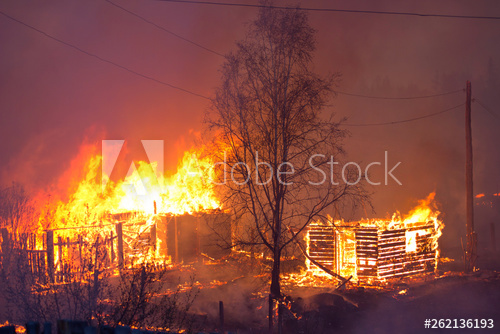fire: (312, 215, 442, 280), (58, 164, 219, 216), (53, 215, 166, 269)
smoke: (331, 28, 466, 176), (59, 17, 221, 139), (1, 7, 55, 209)
